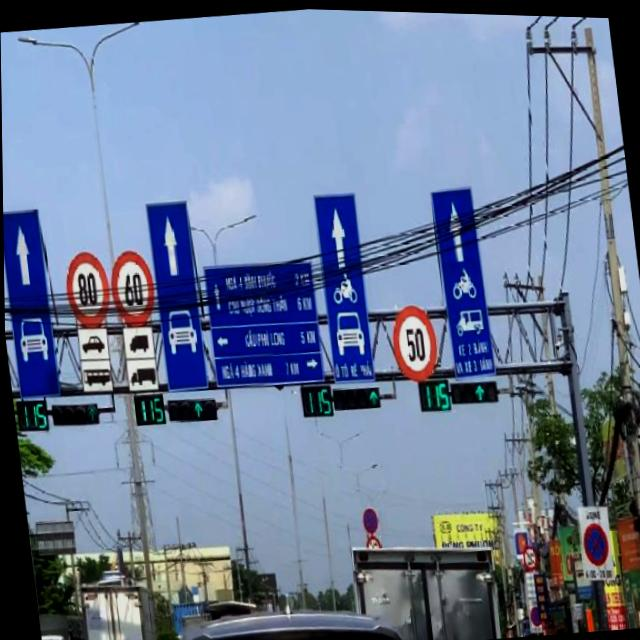Cam dung xe va do xe: (579, 517, 608, 564), (359, 504, 377, 532), (527, 602, 541, 624)
Toc do toi da cho phep: (387, 298, 439, 382), (106, 246, 158, 329), (62, 249, 113, 331)
